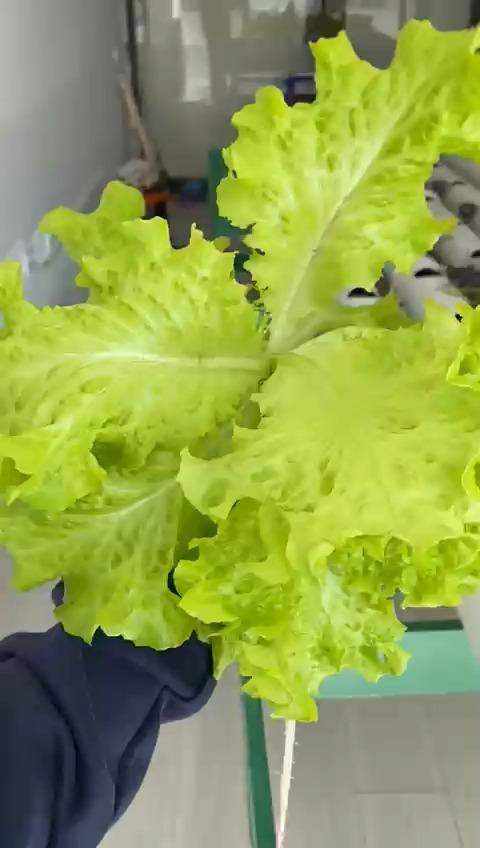Healthy Lettuce: (0, 19, 480, 725)
